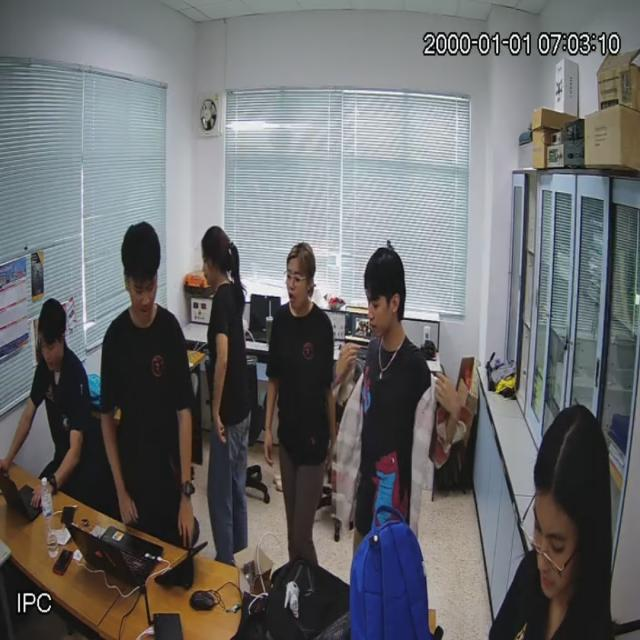normal: (346, 238, 443, 583), (101, 219, 194, 558), (266, 238, 336, 576), (199, 222, 253, 569), (28, 290, 95, 501)
